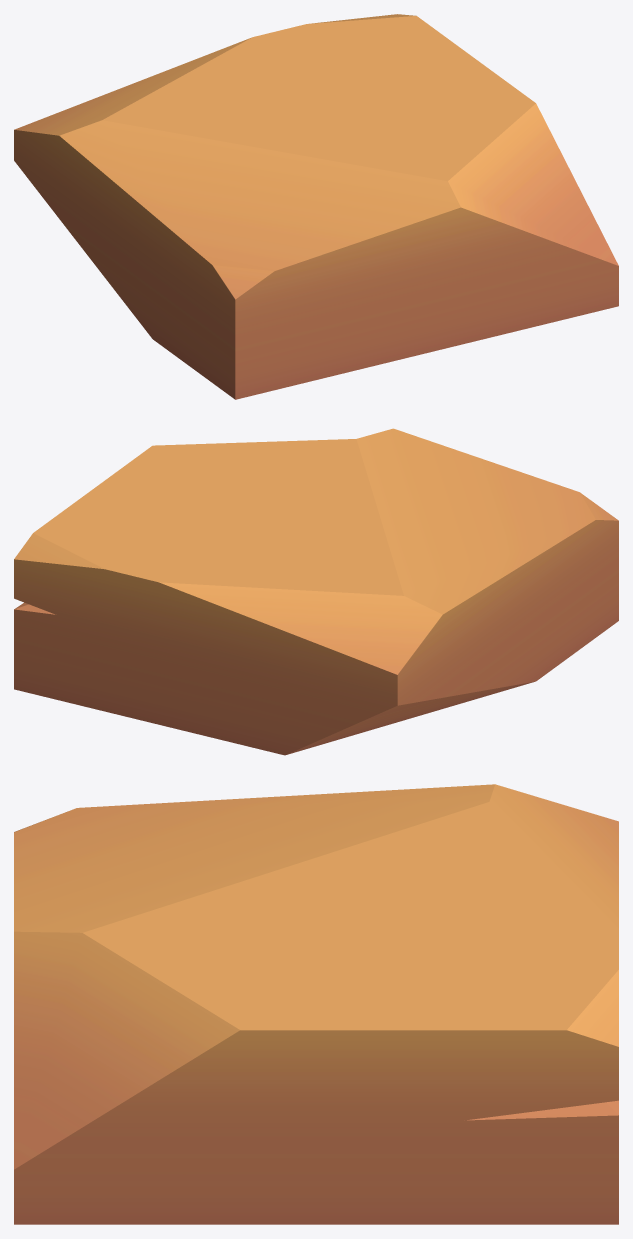
3 views of the same model, one above another, from view 1: azimuth 30°, elevation 25°; view 2: azimuth 150°, elevation 25°; view 3: azimuth 270°, elevation 25° (orthographic). The views are drawn at different scales.
Parts seen in each view (by area): view 1: Plane_2; view 2: Plane_2; view 3: Plane_2.
Part boxes in pixels (x1=…): Plane_2: x1=14, y1=14, x2=618, y2=399; Plane_2: x1=14, y1=428, x2=618, y2=755; Plane_2: x1=14, y1=784, x2=618, y2=1224.
Bounding box in the file's own units: 1.11 × 0.3944 × 1.11.
